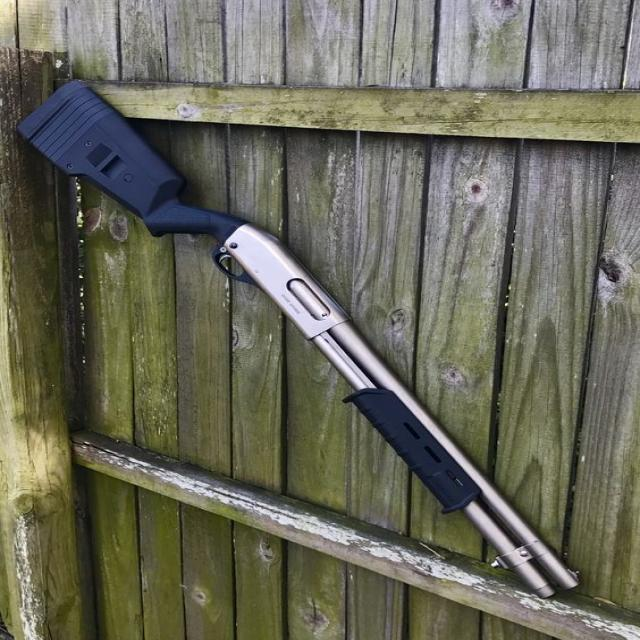shotgun: (16, 78, 590, 598)
